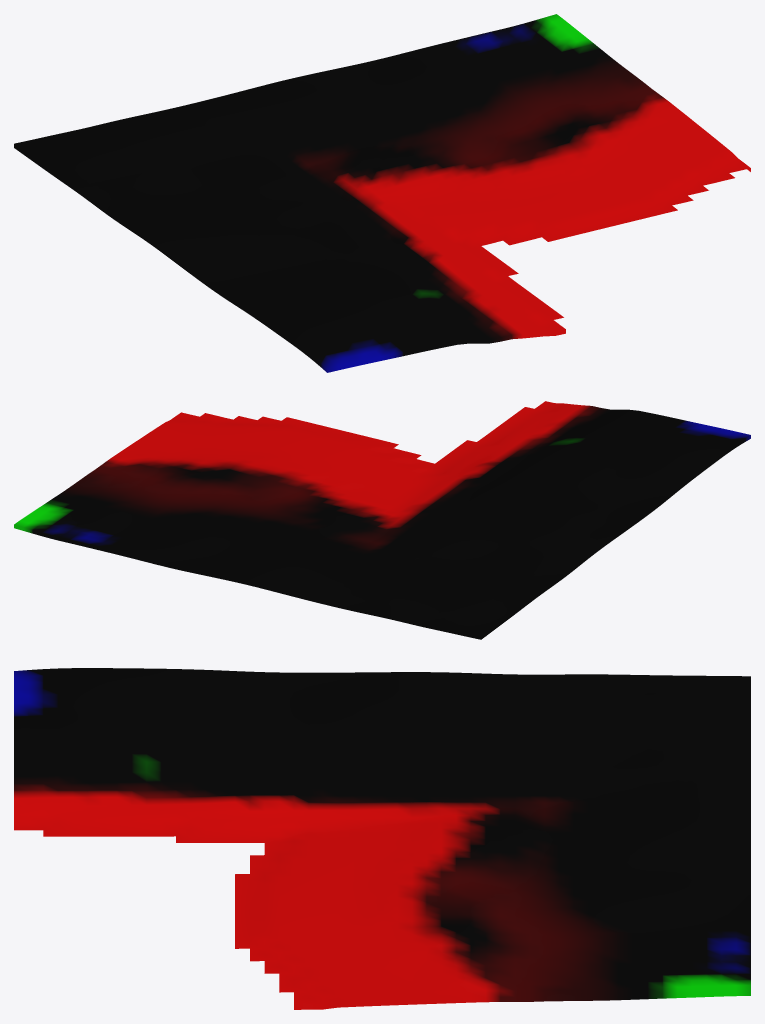
Rendered from coast_13_8.glb.
3 renders of one model, top to bottom at view 1: azimuth 30°, elevation 25°; view 2: azimuth 150°, elevation 25°; view 3: azimuth 270°, elevation 25°, orthographic. The views are drawn at different scales.
Parts seen in each view (by area): view 1: terrain; view 2: terrain; view 3: terrain.
Part boxes in pixels (x1,y1,x2,y2): terrain: (14, 14, 750, 372); terrain: (14, 401, 750, 639); terrain: (14, 668, 750, 1009).
Bounding box in the file's own units: 200 × 9.26 × 200.
